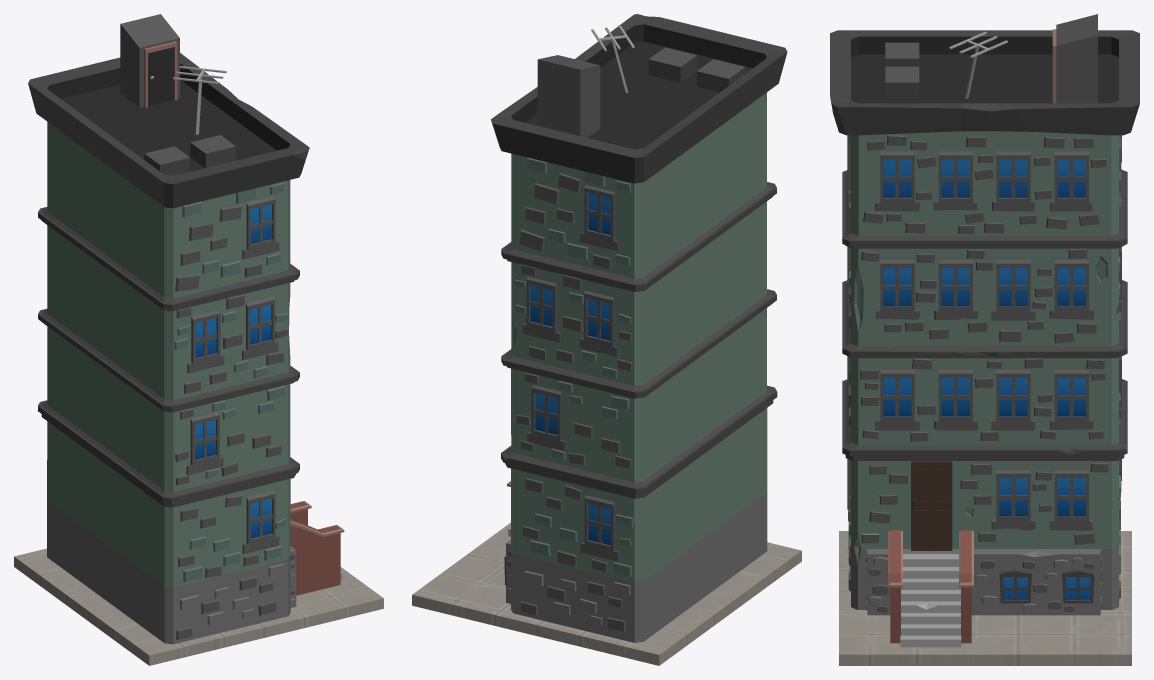
File: House_03.fbx
The picture shows the model from 3 angles, left to right: view 1: azimuth 30°, elevation 25°; view 2: azimuth 150°, elevation 25°; view 3: azimuth 270°, elevation 25°; orthographic projection. The views are drawn at different scales.
Parts seen in each view (by area): view 1: House_03; view 2: House_03; view 3: House_03.
Boxes of the visible parts, <box> form: House_03: <box>14,14,383,665</box>; House_03: <box>412,14,801,665</box>; House_03: <box>830,14,1139,665</box>.
Bounding box in the file's own units: 1200 × 2603 × 1269.
